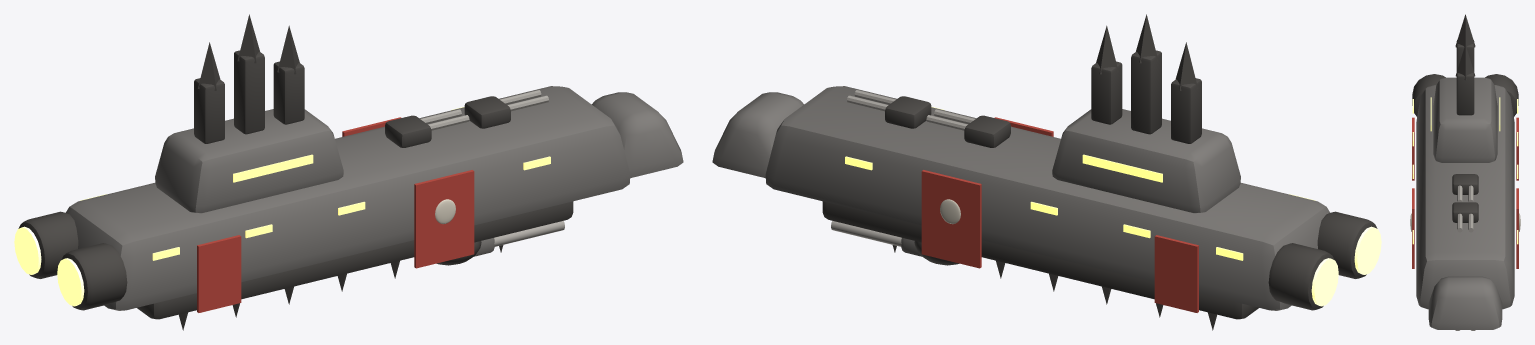
The model's file is hum_cruzador.glb.
The picture shows the model from 3 angles, left to right: view 1: azimuth 30°, elevation 25°; view 2: azimuth 150°, elevation 25°; view 3: azimuth 270°, elevation 25°; orthographic projection. The views are drawn at different scales.
Visible parts, largest first — view 1: hum_cruzador, turret_m; view 2: hum_cruzador, turret_m; view 3: hum_cruzador.
Part boxes in pixels (box(x1,y1,x2,y2)): hum_cruzador: box(14, 14, 683, 330); turret_m: box(436, 221, 564, 265); hum_cruzador: box(712, 14, 1381, 330); turret_m: box(831, 221, 959, 265); hum_cruzador: box(1410, 14, 1520, 329).
Size of the model in its own units: 2.32 by 1.08 by 0.498.
